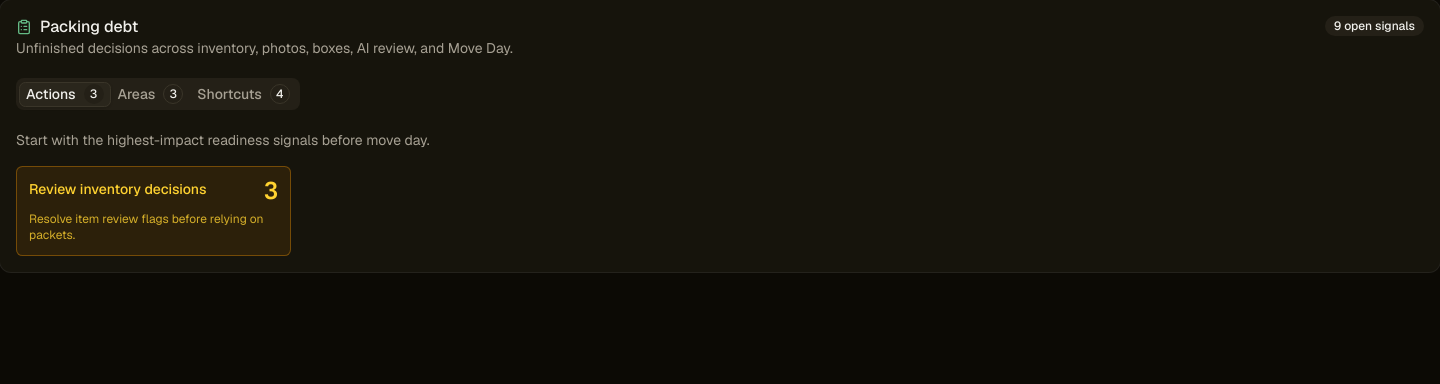
PackingDebtDashboard task tabs › opens on action queues and separates area metrics and shortcuts
This screenshot has width=1440, height=384.
Expected: the text "Start with the highest-impact readiness signals before move day." is shown, [16,131,430,149]
Expected: the text "Review inventory decisions" is shown, [29,179,206,199]
Click the tab with aria-label "Areas: 3 groups" at (150, 94), box [110,82,190,106]
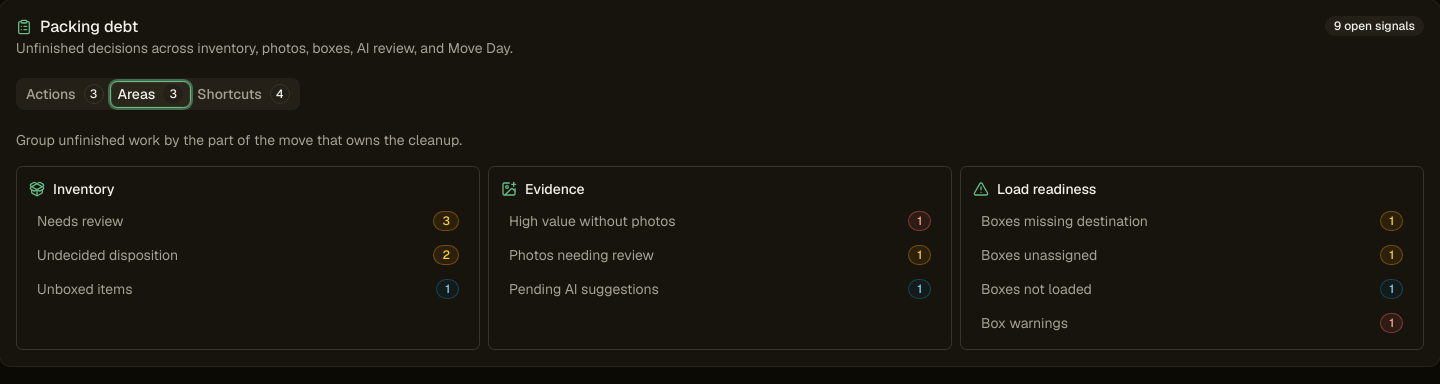
Now the text "Group unfinished work by the part of the move that owns the cleanup." is shown, box [16,131,462,149]
Now the text "Evidence" is shown, box [501,180,585,198]
Now the text "Load readiness" is shown, box [973,180,1096,198]
Click the tab with aria-label "Shortcuts: 4 links" at (244, 94), box [190,82,297,106]
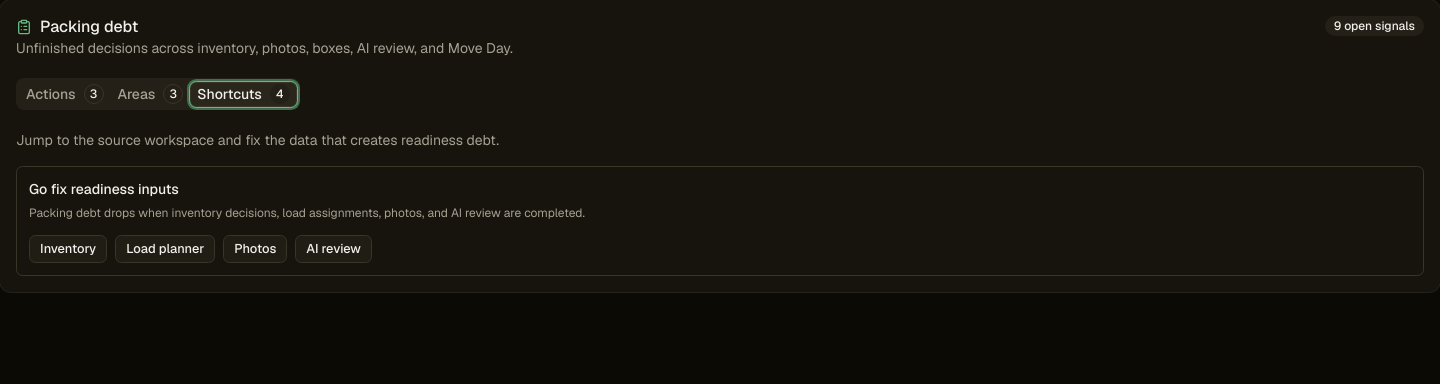
Now the text "Jump to the source workspace and fix the data that creates readiness debt." is shown, box [16,131,499,149]
Now the text "Go fix readiness inputs" is shown, box [29,180,179,198]
Now the text "Load readiness" is gone
